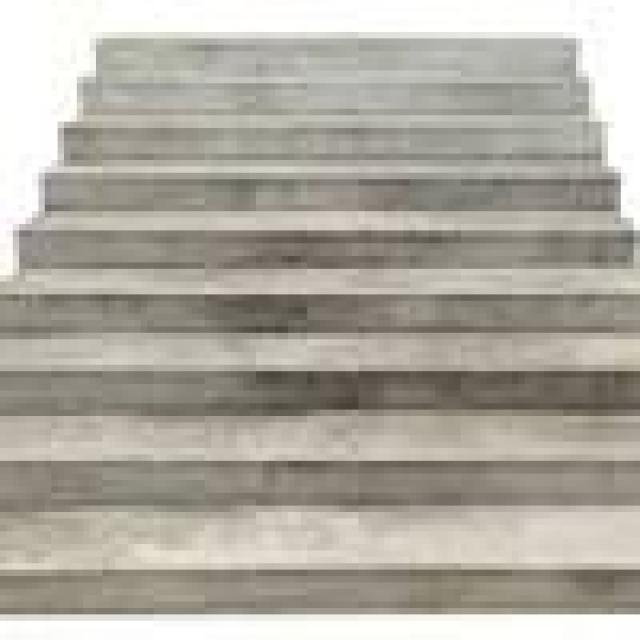stairs: (0, 26, 634, 614)
